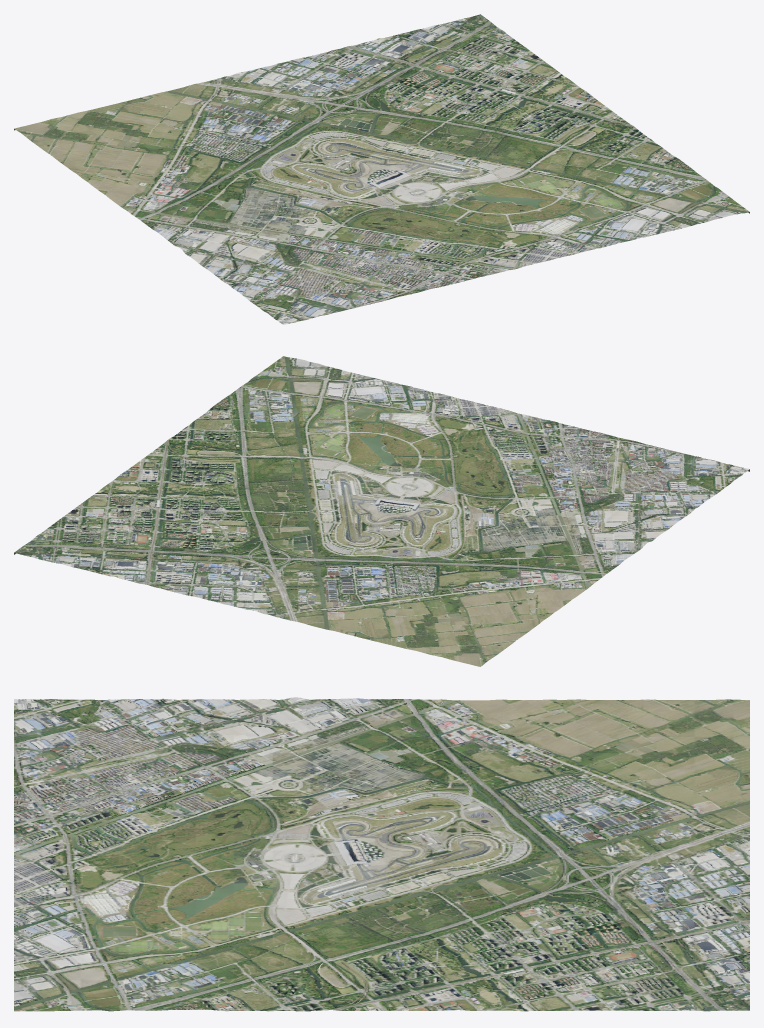
The model's file is 02_chinese_gp.glb.
3 renders of one model, top to bottom at view 1: azimuth 30°, elevation 25°; view 2: azimuth 150°, elevation 25°; view 3: azimuth 270°, elevation 25°, orthographic. The views are drawn at different scales.
Visible parts, largest first — view 1: tinMesh; view 2: tinMesh; view 3: tinMesh.
Part boxes in pixels (x1,y1,x2,y2): tinMesh: [14, 14, 749, 324]; tinMesh: [14, 356, 749, 666]; tinMesh: [14, 697, 749, 1011].
Size of the model in its own units: 5861 by 47.75 by 5861.
2 materials, 2 textured.
